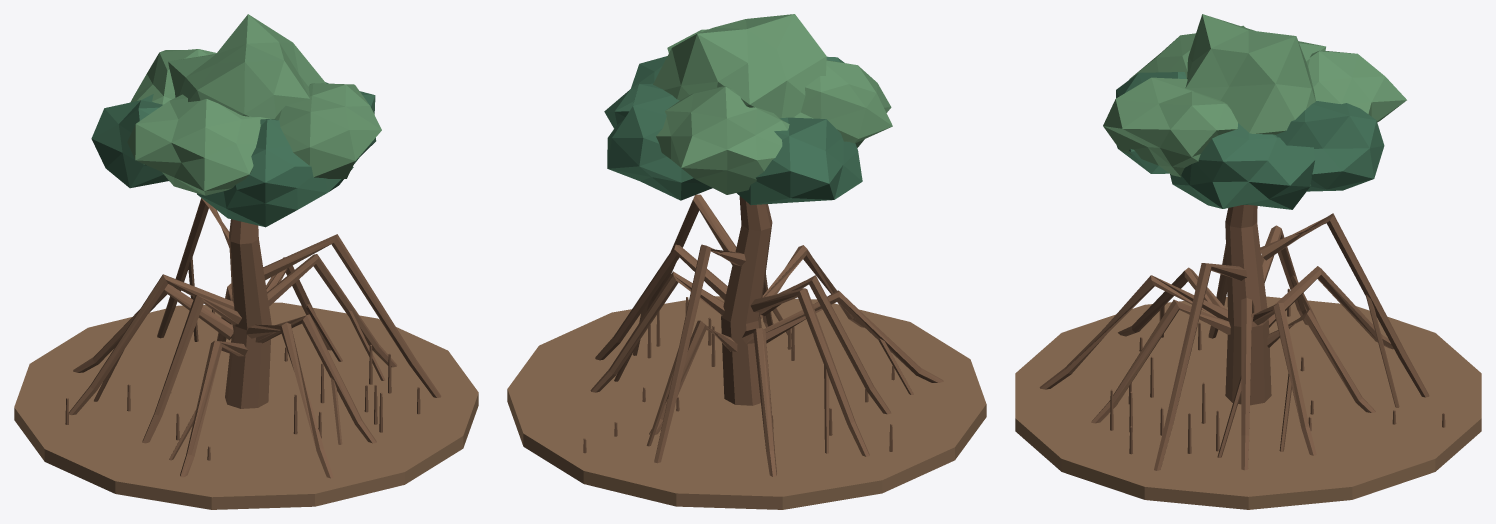
Rendered from PLANT_10.obj.
The picture shows the model from 3 angles, left to right: view 1: azimuth 30°, elevation 25°; view 2: azimuth 150°, elevation 25°; view 3: azimuth 270°, elevation 25°; orthographic projection. The views are drawn at different scales.
Parts seen in each view (by area): view 1: mud, canopy, prop_roots, trunk, branch_roots, pneumatophores; view 2: mud, canopy, prop_roots, trunk, branch_roots, pneumatophores; view 3: mud, canopy, prop_roots, trunk, branch_roots, pneumatophores.
Boxes of the visible parts, <box> form: mud: <box>14,302,478,509</box>; canopy: <box>91,14,381,227</box>; prop_roots: <box>69,198,441,478</box>; trunk: <box>225,219,271,408</box>; branch_roots: <box>94,257,385,460</box>; pneumatophores: <box>65,310,420,460</box>; mud: <box>507,296,986,509</box>; canopy: <box>604,14,892,205</box>; prop_roots: <box>590,194,943,476</box>; trunk: <box>721,196,772,405</box>; branch_roots: <box>614,302,913,453</box>; pneumatophores: <box>583,297,894,453</box>; mud: <box>1015,296,1481,509</box>; canopy: <box>1103,14,1406,209</box>; prop_roots: <box>1039,213,1429,470</box>; trunk: <box>1225,204,1271,405</box>; branch_roots: <box>1159,275,1399,457</box>; pneumatophores: <box>1110,288,1445,454</box>.
Size of the model in its own units: 6.6 by 5.87 by 6.43.
